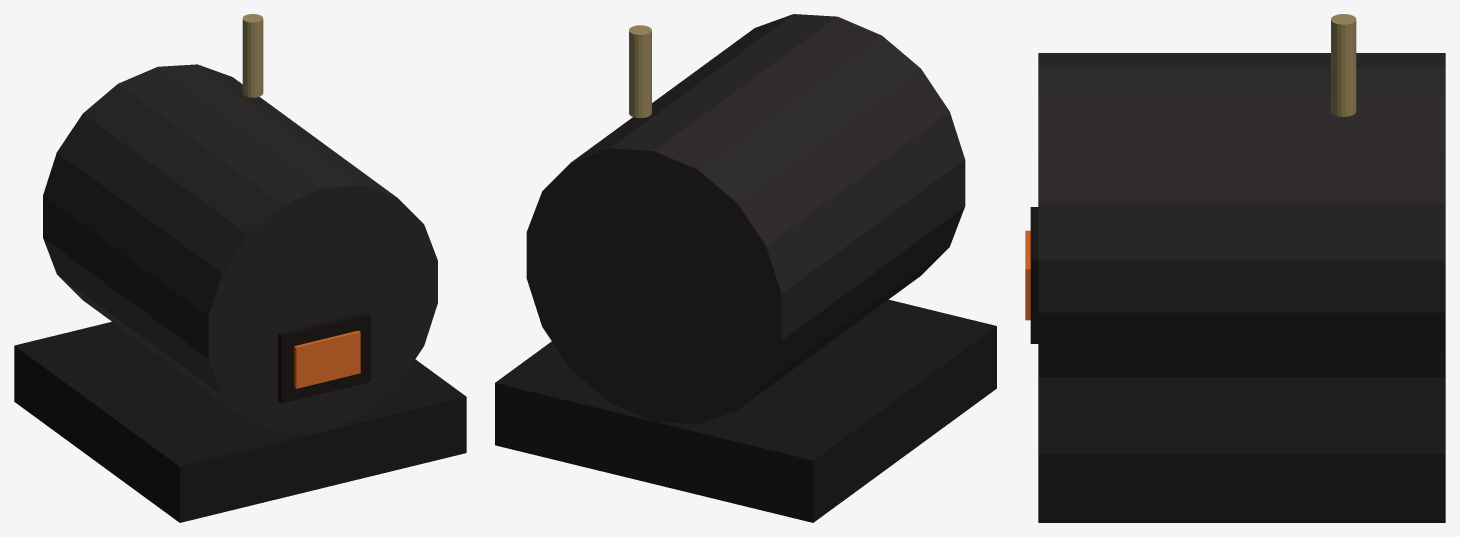
File: boiler.95fa67e1.glb
3 views of the same model, side by side, from view 1: azimuth 30°, elevation 25°; view 2: azimuth 150°, elevation 25°; view 3: azimuth 270°, elevation 25° (orthographic). The views are drawn at different scales.
Visible parts, largest first — view 1: body; view 2: body; view 3: body.
Boxes of the visible parts, x1,y1,x2,y2 form: body: [14, 14, 466, 522]; body: [495, 14, 996, 522]; body: [1025, 14, 1445, 522].
Bounding box in the file's own units: 1.6 × 1.95 × 1.65.
